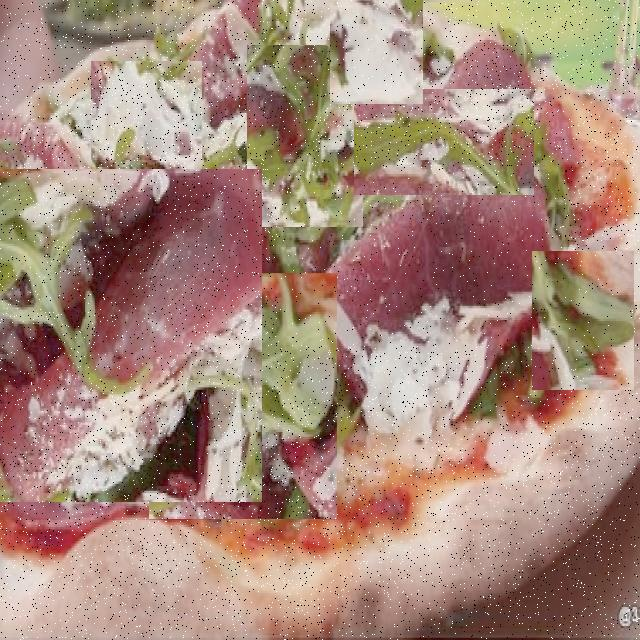Cheese: (347, 314, 482, 464), (91, 61, 202, 169), (330, 0, 423, 104)
Ham: (0, 170, 262, 503), (279, 167, 562, 345)
Pizza: (0, 0, 640, 640)
Rucola: (149, 273, 337, 519), (247, 45, 363, 227), (354, 89, 534, 195), (532, 251, 634, 390)
